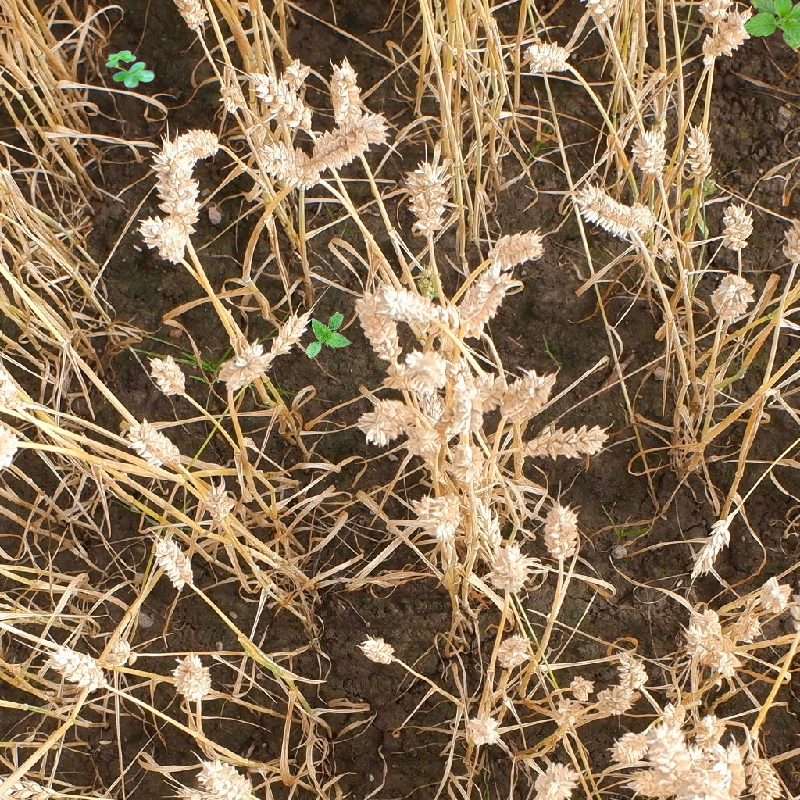spikelet: (150, 140, 204, 228), (310, 111, 390, 170), (573, 184, 653, 242), (247, 66, 314, 128), (458, 263, 511, 330), (685, 609, 737, 677), (404, 159, 449, 236), (353, 289, 401, 361), (382, 285, 458, 329), (522, 422, 608, 460), (45, 642, 108, 693), (257, 140, 319, 191), (698, 8, 753, 63), (690, 510, 737, 574), (499, 368, 553, 423), (652, 727, 701, 787), (126, 418, 183, 469), (137, 213, 191, 264), (199, 757, 262, 800), (357, 394, 410, 445), (216, 340, 269, 391), (456, 373, 499, 435), (326, 57, 365, 125), (151, 533, 196, 589), (684, 123, 718, 193), (487, 227, 545, 268), (417, 491, 462, 543), (541, 501, 581, 559), (167, 124, 223, 165), (710, 272, 754, 324), (324, 345, 382, 384), (488, 541, 530, 593), (171, 651, 213, 702), (528, 758, 579, 800), (401, 346, 450, 389), (493, 174, 537, 221), (269, 308, 312, 355), (468, 495, 504, 549), (631, 127, 668, 176), (146, 353, 188, 396), (525, 38, 572, 76), (713, 746, 747, 798), (718, 202, 754, 251), (745, 754, 783, 799), (754, 574, 794, 615), (627, 766, 674, 799), (493, 631, 533, 669), (610, 726, 650, 764), (462, 711, 501, 747), (614, 650, 649, 690), (316, 429, 360, 460), (594, 680, 634, 714), (201, 482, 234, 522), (692, 711, 727, 747), (166, 1, 209, 30), (405, 423, 441, 457), (216, 74, 246, 114), (727, 608, 762, 642), (1, 418, 21, 475), (359, 634, 396, 664), (656, 699, 689, 732), (415, 262, 443, 299), (102, 636, 133, 668), (694, 1, 736, 21), (175, 784, 213, 799)
weed: (291, 300, 363, 374), (743, 1, 800, 49), (105, 50, 155, 88)
